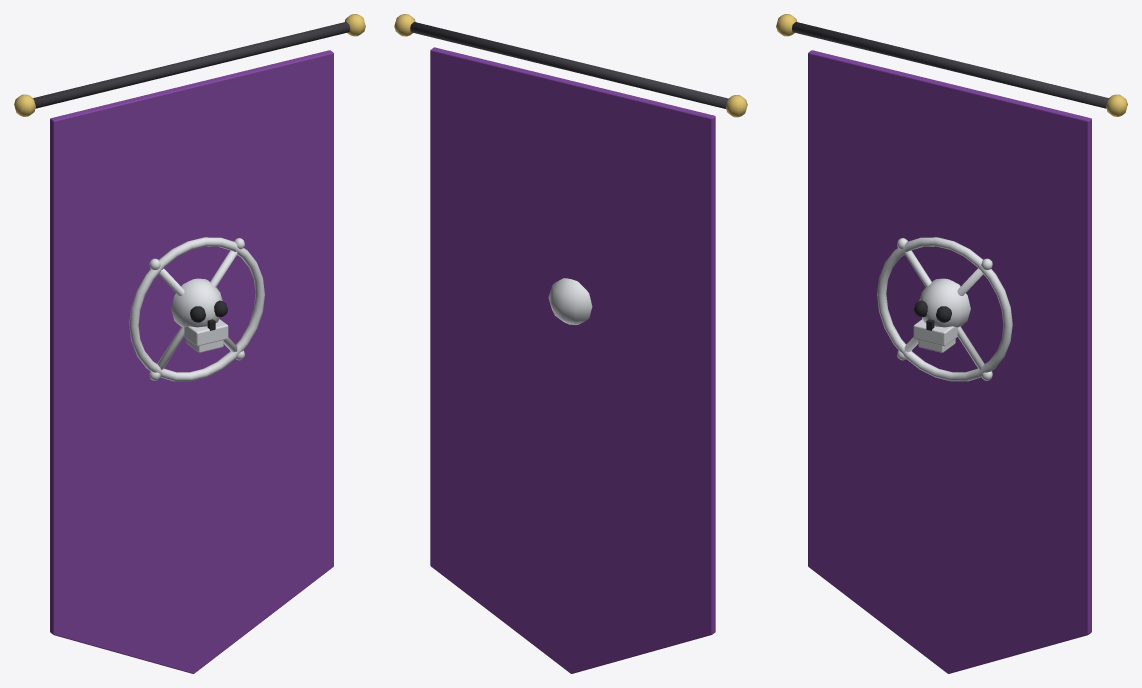
File: banner_academy_crest.glb
The picture shows the model from 3 angles, left to right: view 1: azimuth 30°, elevation 25°; view 2: azimuth 150°, elevation 25°; view 3: azimuth 330°, elevation 25°; orthographic projection.
Visible parts, largest first — view 1: GD_banner_academy_crest__m4, GD_banner_academy_crest__m2, GD_banner_academy_crest__m0, GD_banner_academy_crest__m1; view 2: GD_banner_academy_crest__m4, GD_banner_academy_crest__m0, GD_banner_academy_crest__m2, GD_banner_academy_crest__m1; view 3: GD_banner_academy_crest__m4, GD_banner_academy_crest__m2, GD_banner_academy_crest__m0, GD_banner_academy_crest__m1.
Boxes of the visible parts, x1,y1,x2,y2 form: GD_banner_academy_crest__m4: (50, 50, 333, 673); GD_banner_academy_crest__m2: (129, 237, 264, 381); GD_banner_academy_crest__m0: (33, 22, 349, 108); GD_banner_academy_crest__m1: (14, 14, 365, 116); GD_banner_academy_crest__m4: (430, 47, 715, 673); GD_banner_academy_crest__m0: (410, 22, 728, 108); GD_banner_academy_crest__m2: (548, 278, 592, 324); GD_banner_academy_crest__m1: (394, 14, 747, 117); GD_banner_academy_crest__m4: (808, 50, 1091, 673); GD_banner_academy_crest__m2: (877, 237, 1012, 381); GD_banner_academy_crest__m0: (792, 22, 1108, 108); GD_banner_academy_crest__m1: (776, 14, 1127, 116).
Bounding box in the file's own units: 0.996 × 1.68 × 0.1615.
